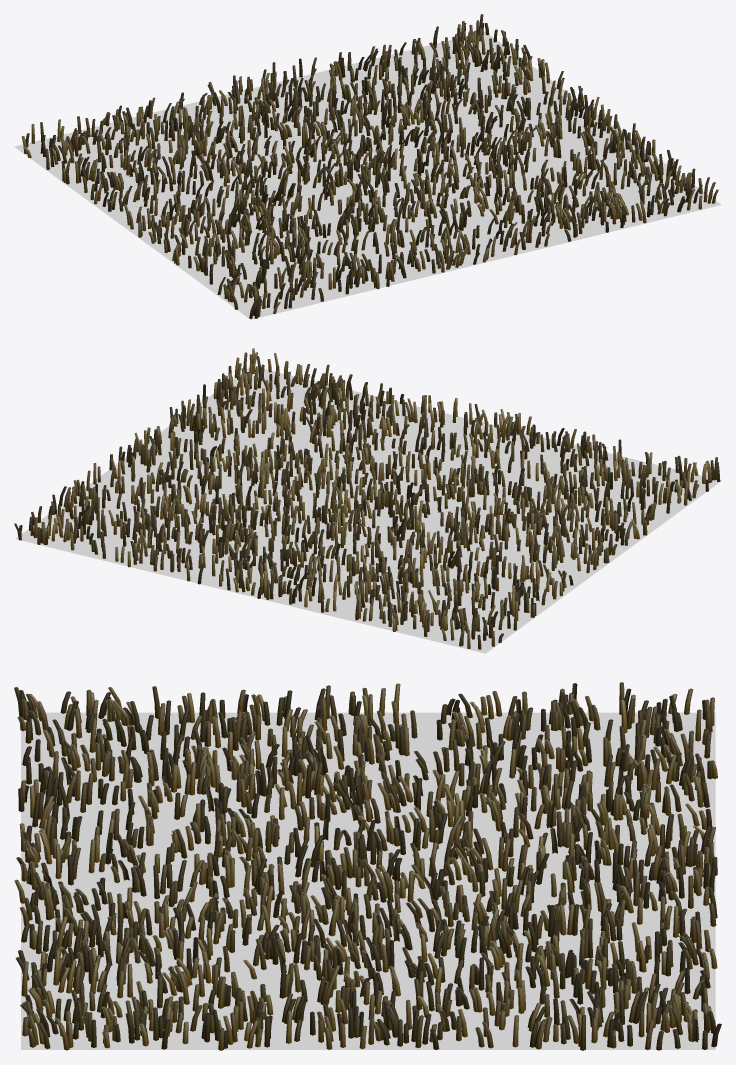
Rendered from TAPIS2.fbx.
The picture shows the model from 3 angles, top to bottom: view 1: azimuth 30°, elevation 25°; view 2: azimuth 150°, elevation 25°; view 3: azimuth 270°, elevation 25°; orthographic projection. The views are drawn at different scales.
Parts seen in each view (by area): view 1: Object001, Plane002; view 2: Object001, Plane002; view 3: Object001, Plane002.
Part boxes in pixels (left/top/right/bottom): Object001: left=21, top=14, right=718, bottom=318; Plane002: left=14, top=31, right=721, bottom=319; Object001: left=14, top=348, right=720, bottom=649; Plane002: left=15, top=367, right=721, bottom=653; Object001: left=14, top=682, right=721, bottom=1050; Plane002: left=21, top=712, right=715, bottom=1049.
Size of the model in its own units: 29.22 by 1.25 by 25.52.
